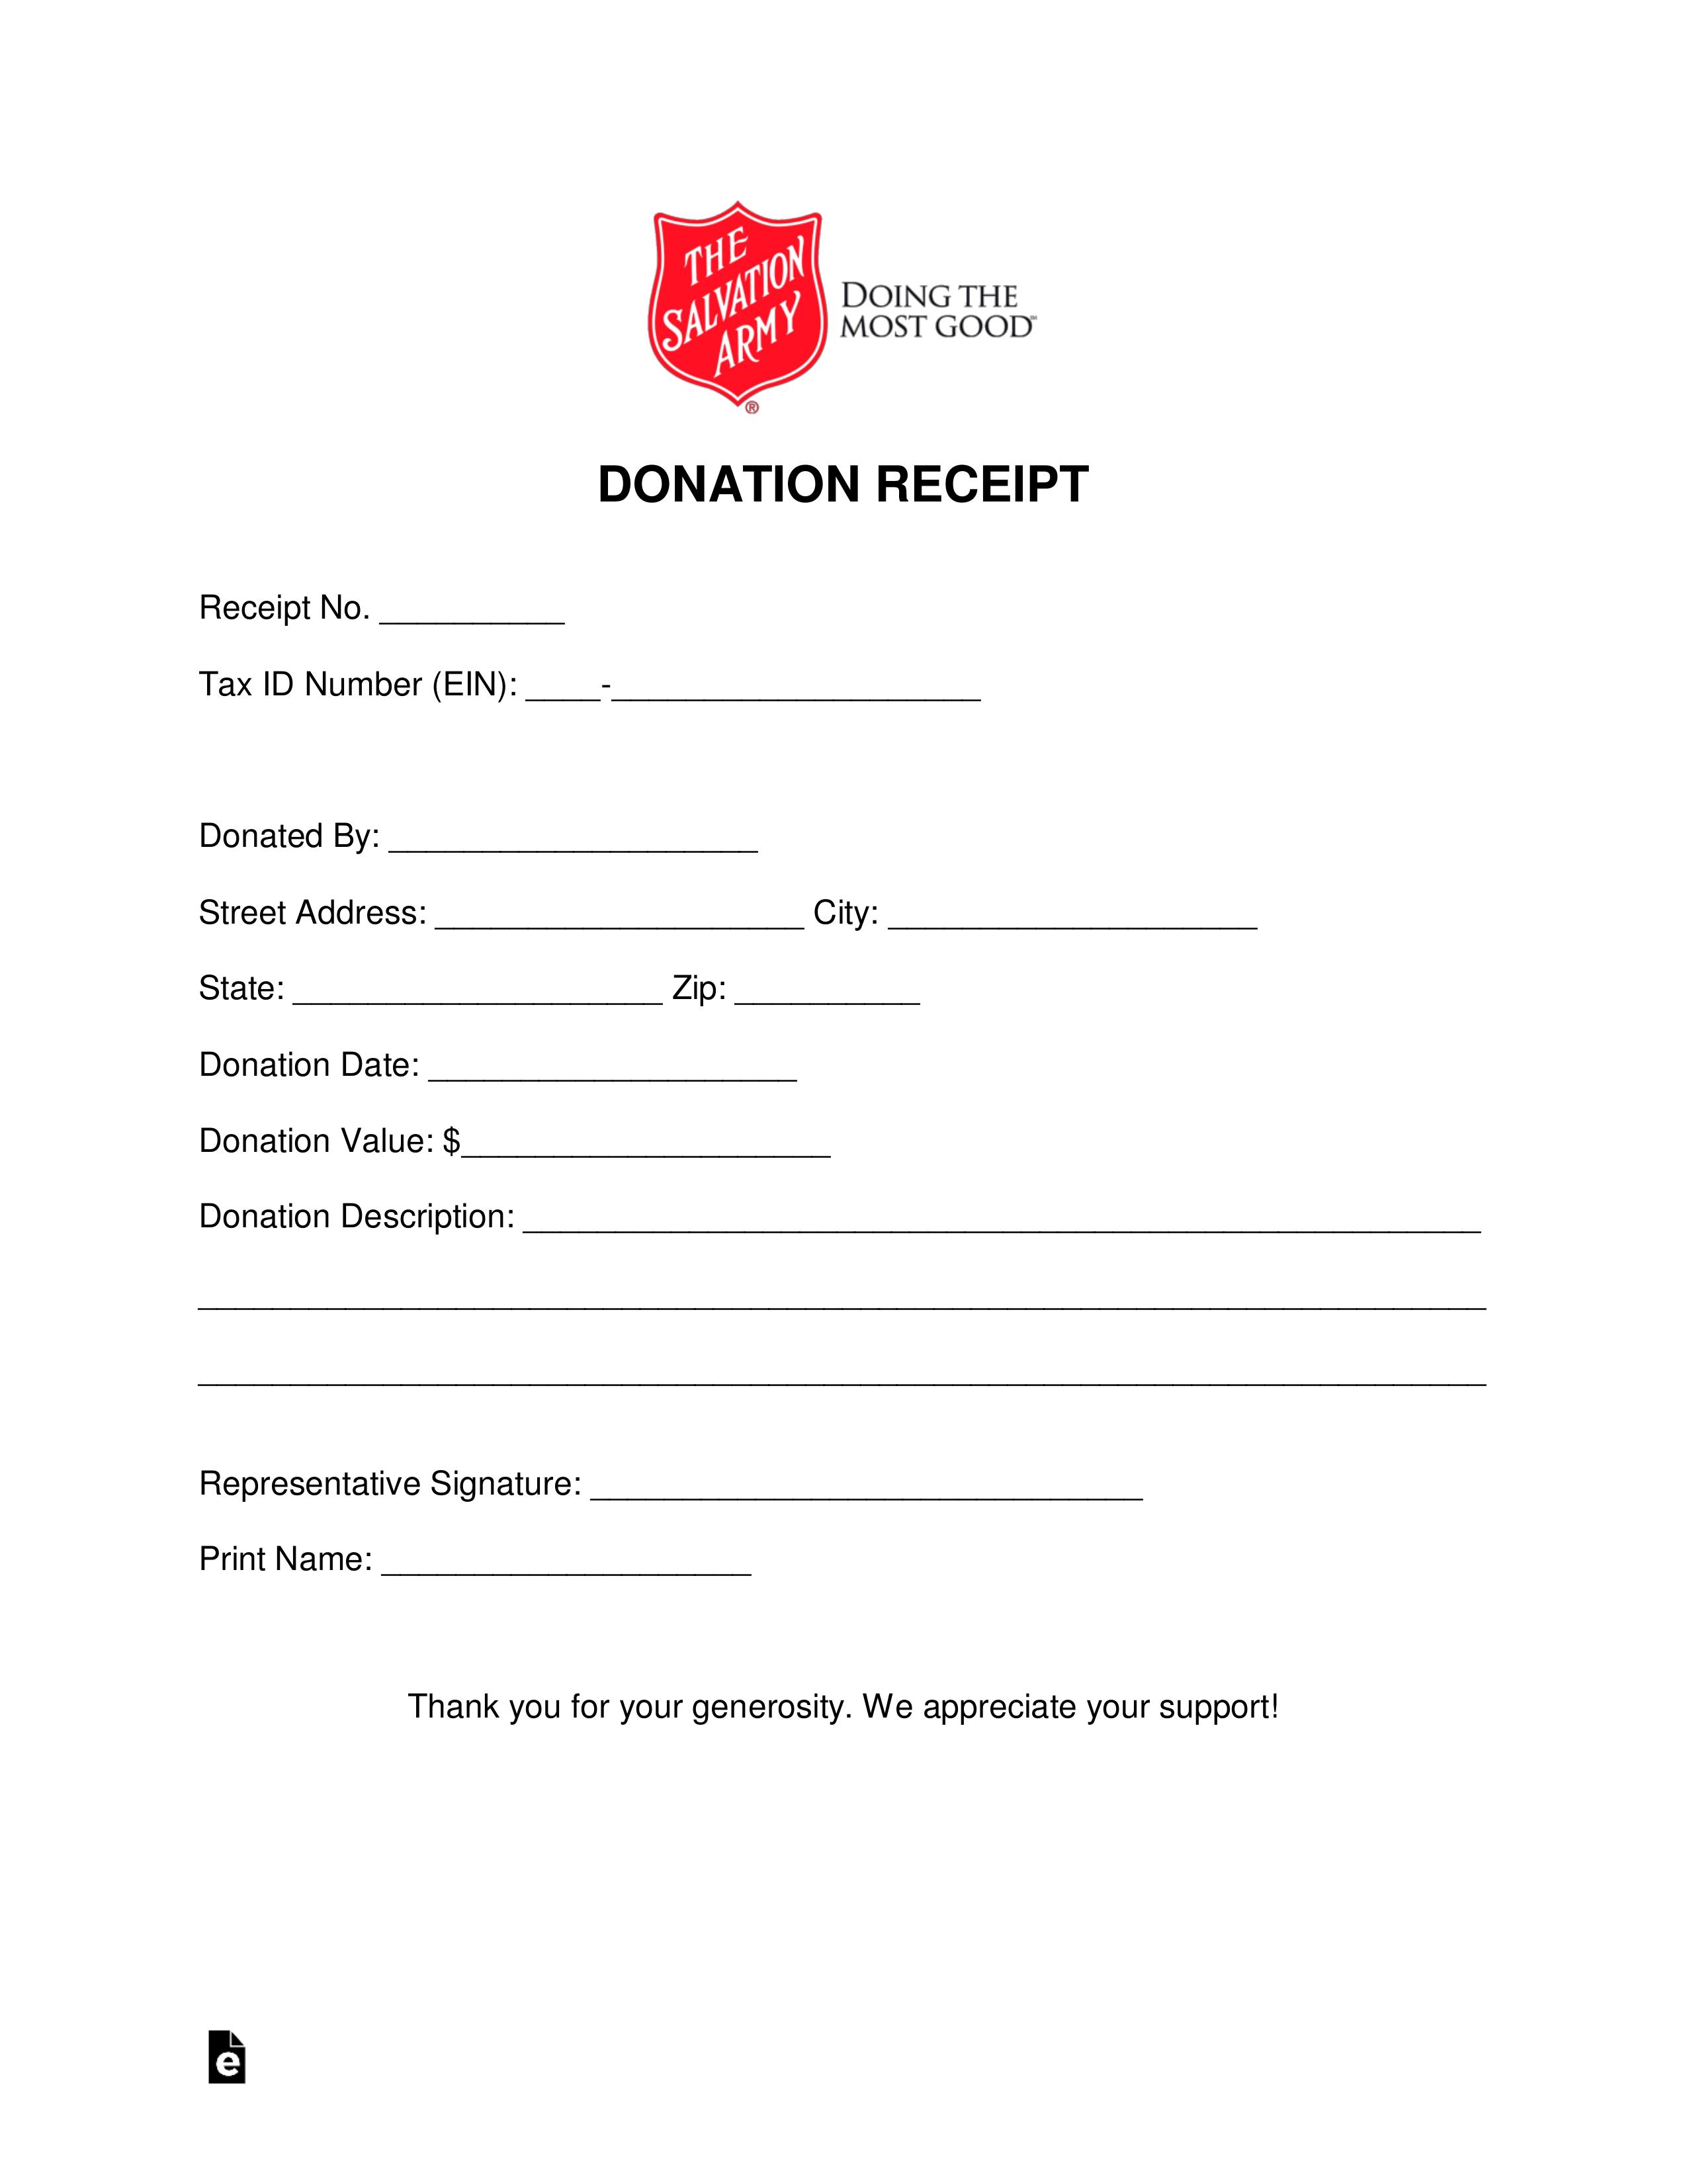textline: (190, 1256, 1504, 1323), (181, 1336, 1504, 1398), (514, 1190, 1496, 1240), (581, 1445, 1145, 1509), (372, 1527, 767, 1589), (882, 884, 1263, 944), (459, 1107, 835, 1167), (287, 956, 672, 1015), (415, 1038, 808, 1091), (610, 661, 985, 716), (383, 817, 760, 866), (429, 891, 803, 939), (374, 581, 572, 638), (727, 964, 930, 1018), (517, 662, 595, 709)
